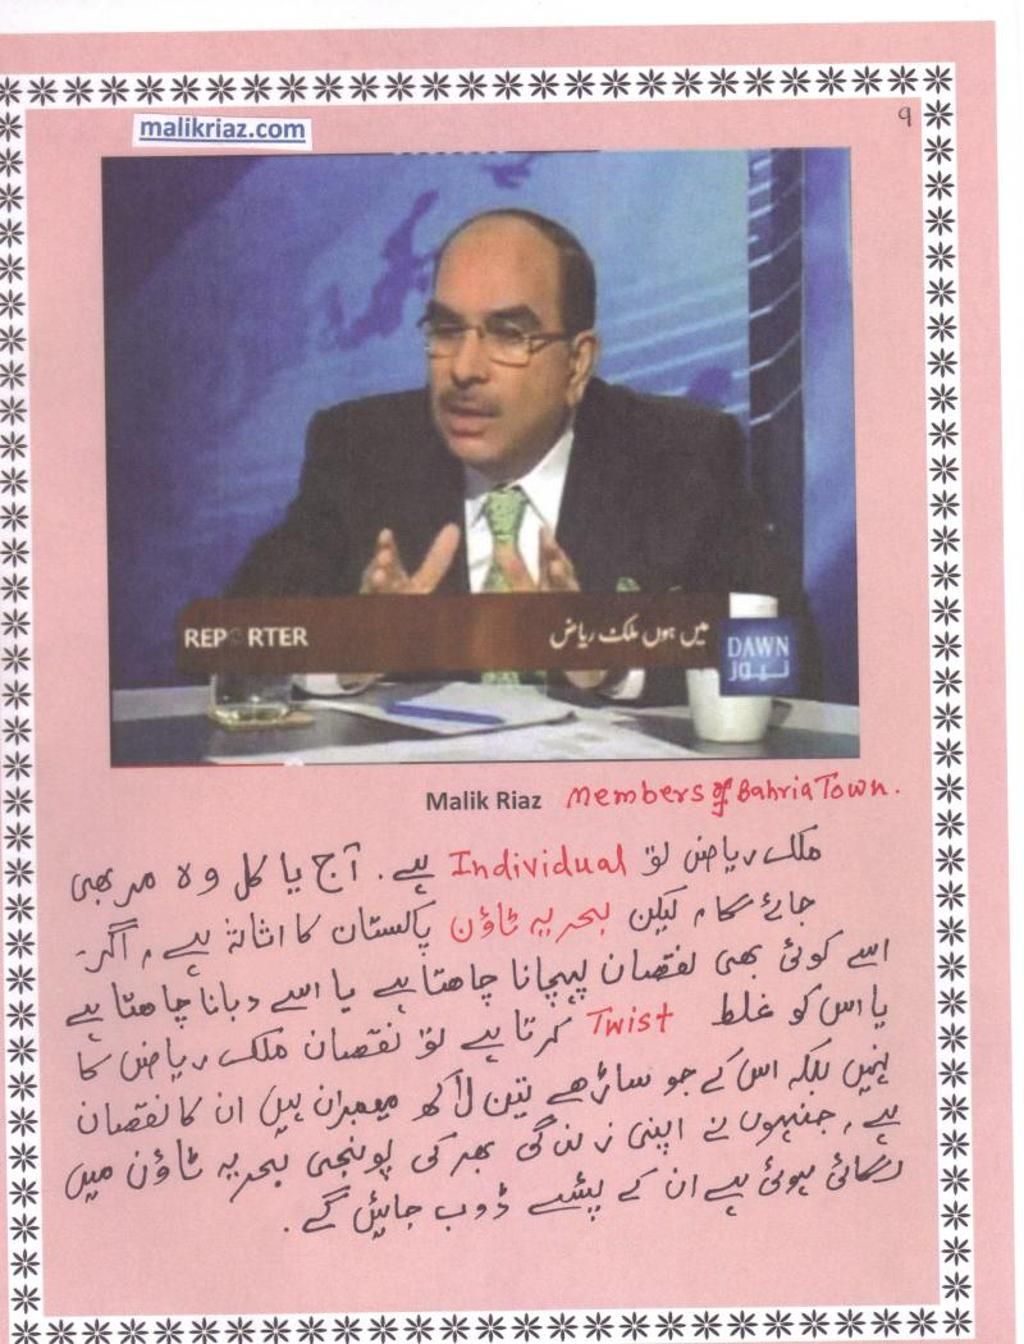face: (431, 239, 560, 457)
